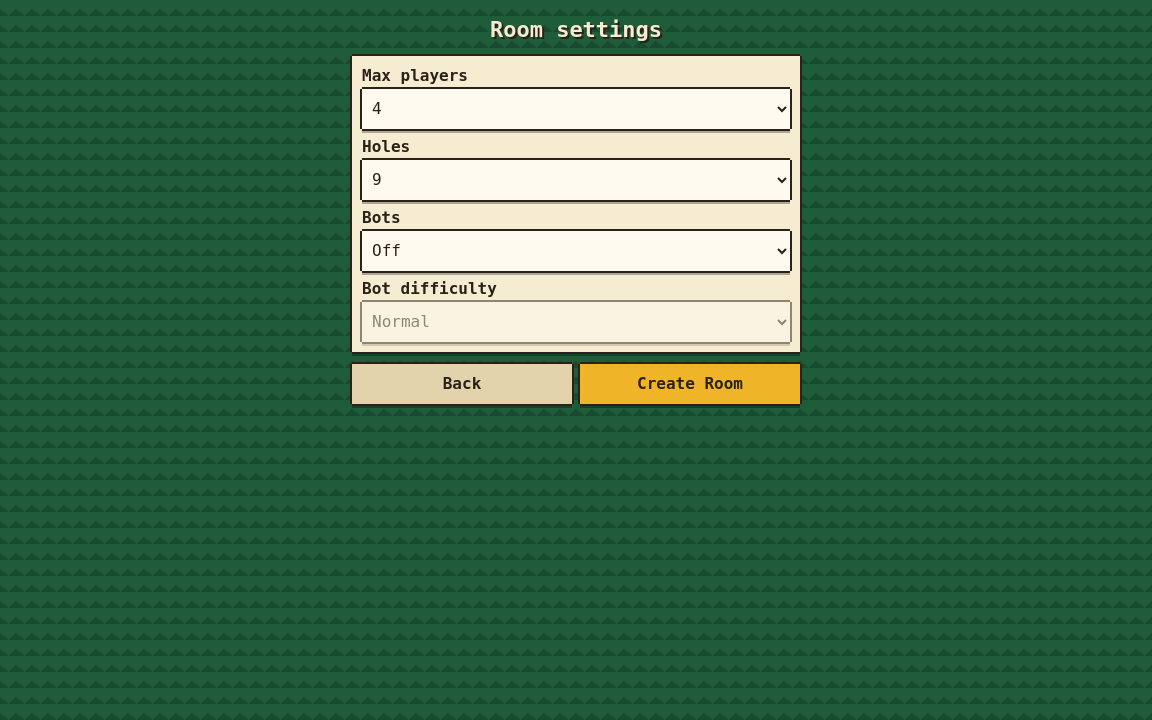
room settings › goes back to the landing page
Click the button "Back": [462, 384] box x1=352 y1=364 x2=572 y2=404
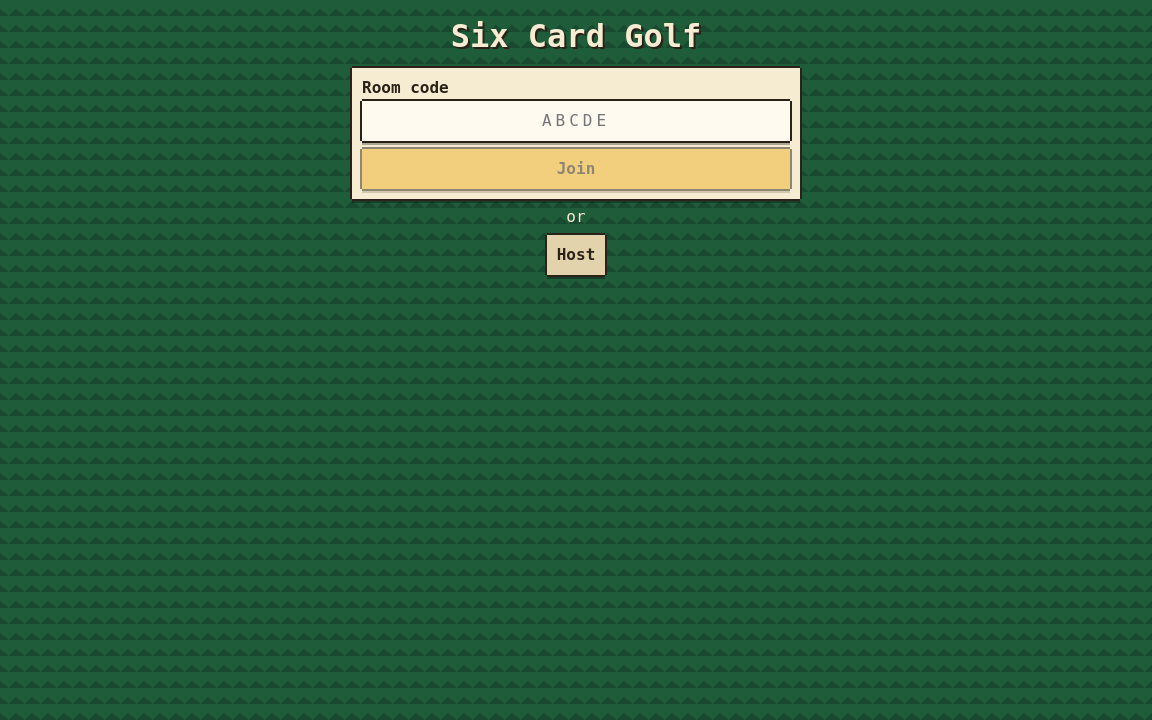
Now the heading "Six Card Golf" is shown, box x1=451 y1=16 x2=701 y2=56
